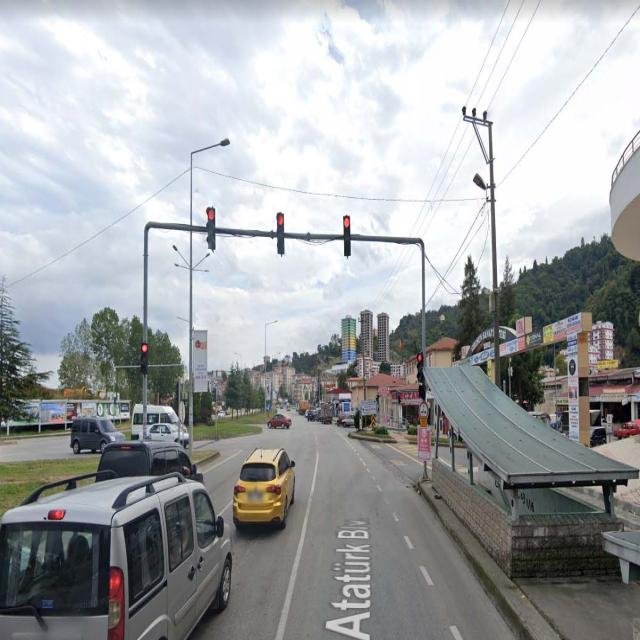kirmizi: (207, 208, 215, 249), (343, 216, 351, 256), (277, 213, 284, 253), (417, 353, 424, 382), (142, 343, 147, 374)
